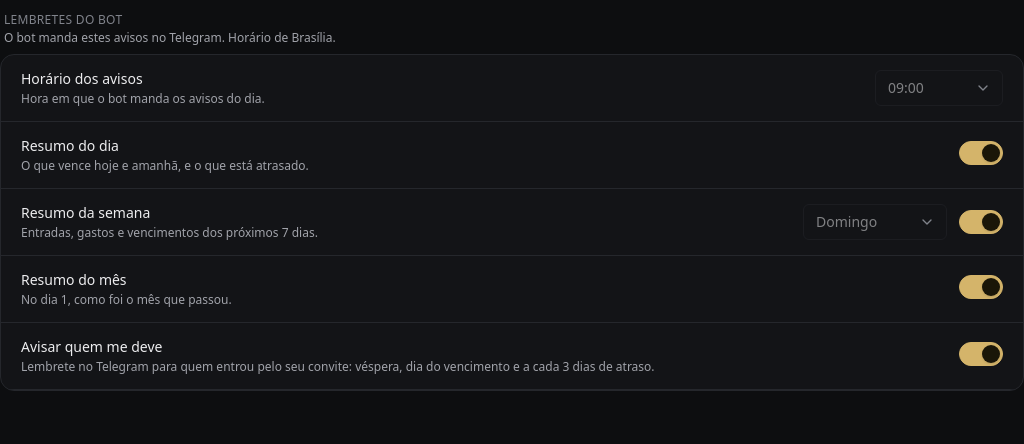
Test: Lembretes do bot › se o bot recusar, volta ao que era e avisa
Click the switch named "Resumo do mês": point(981, 287) [959,275,1003,299]
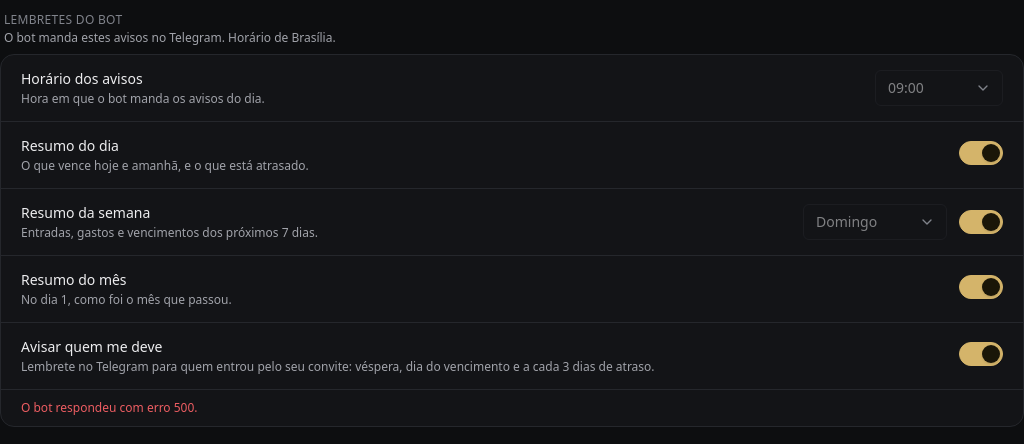
Expected: the message shows "erro 500", [21,399,198,416]
